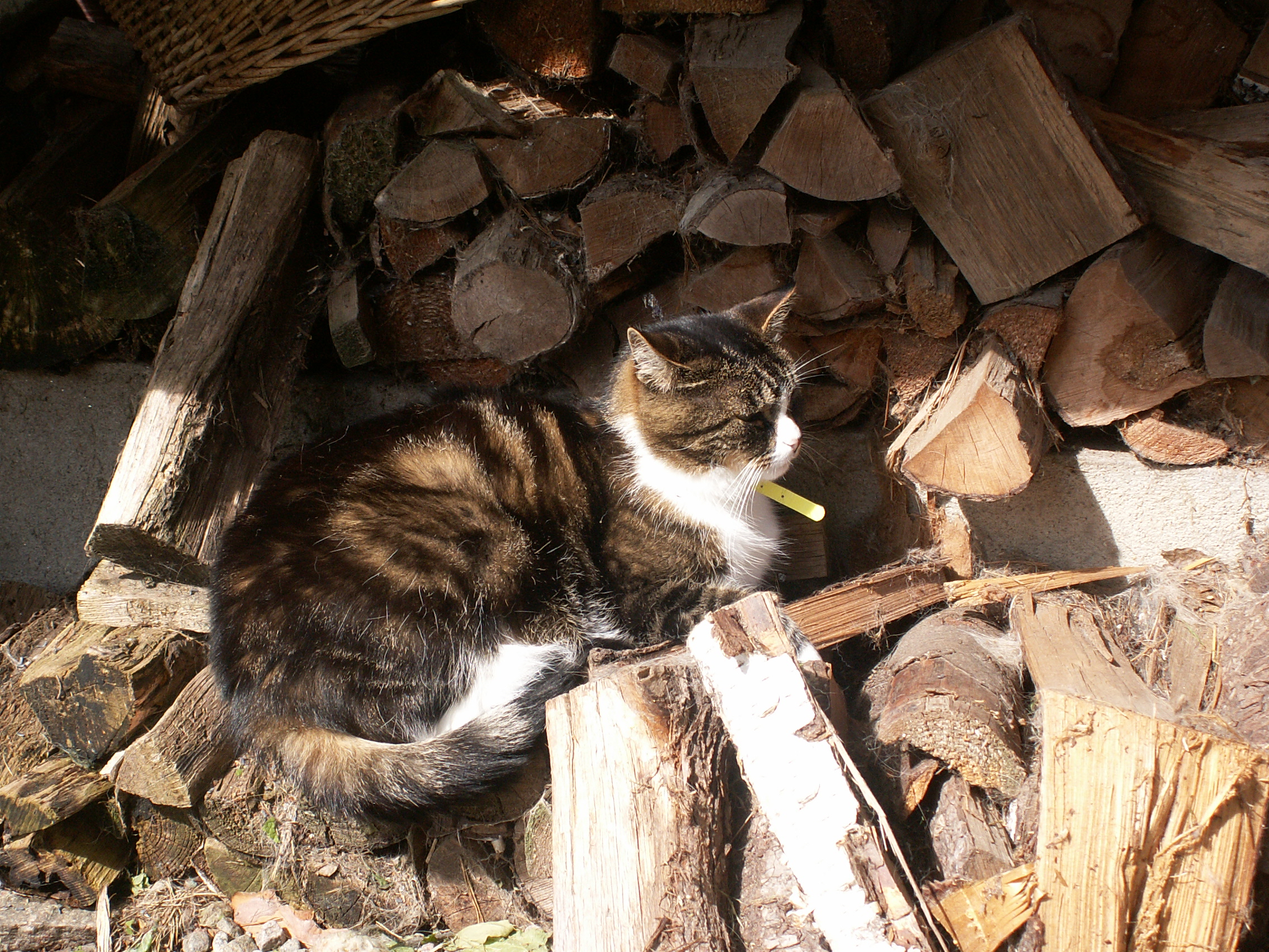cat: (201, 286, 849, 827)
